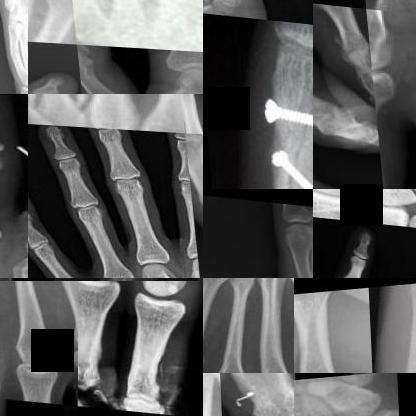fracture: (248, 85, 312, 188), (57, 94, 134, 119), (246, 388, 294, 415), (78, 356, 103, 402), (335, 292, 366, 325), (28, 24, 60, 42), (0, 36, 20, 62), (303, 242, 313, 277)
